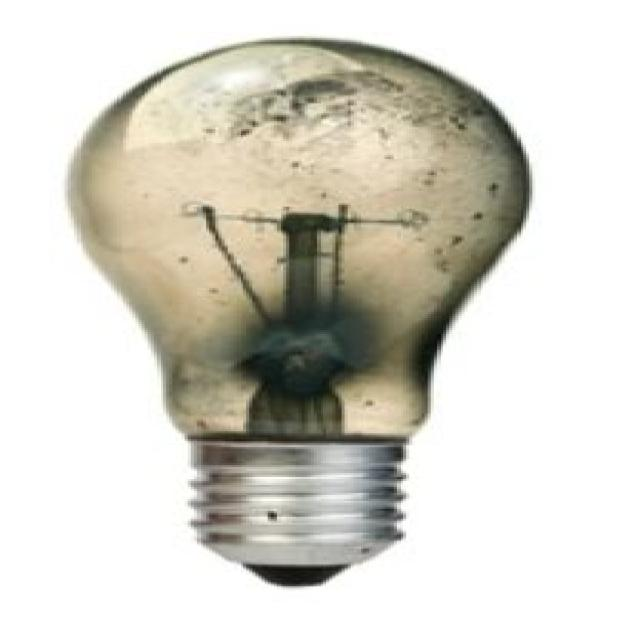electronic: (61, 34, 532, 586)
